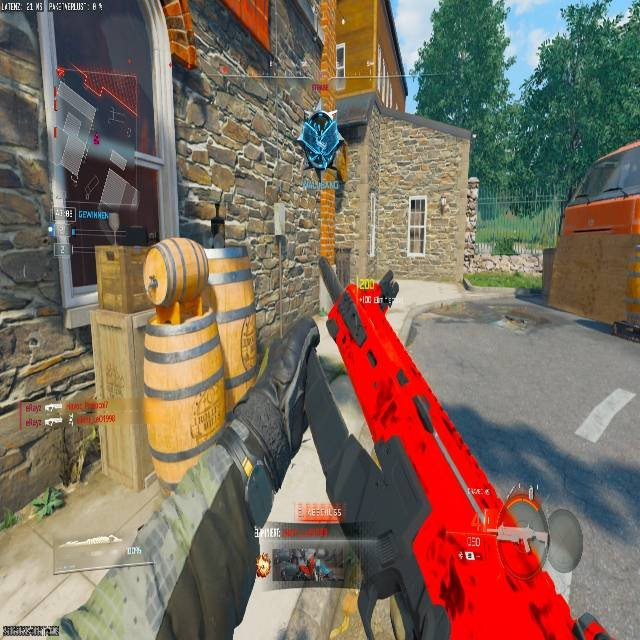head: (313, 107, 331, 125)
player: (299, 106, 342, 196)
